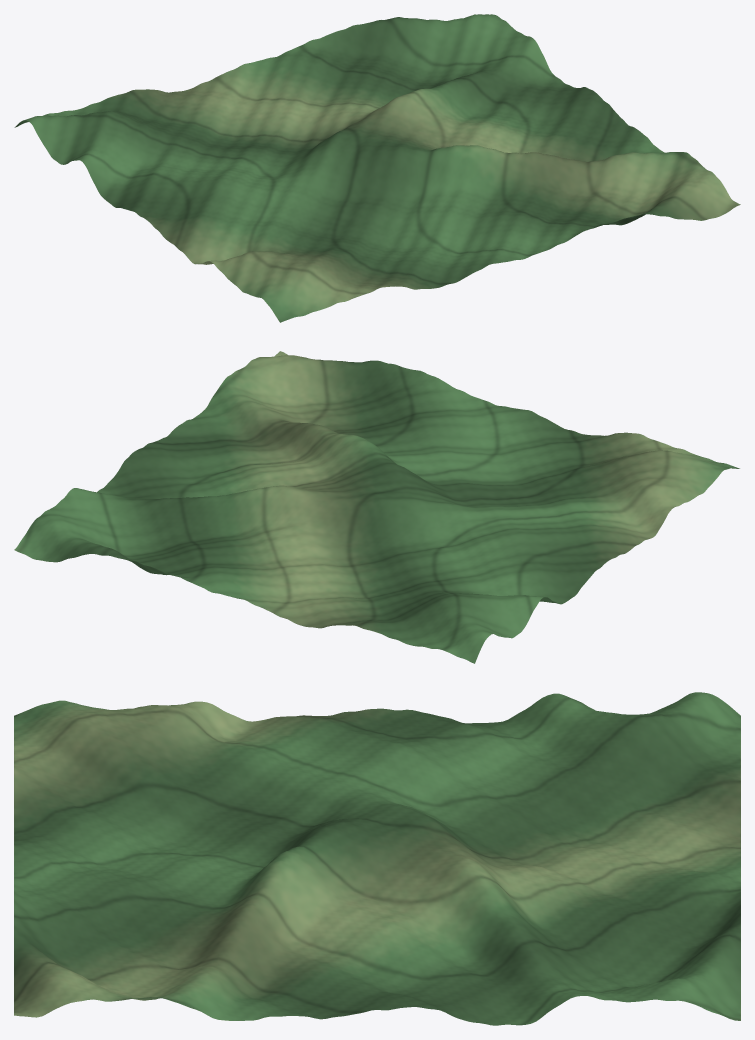
The model's file is earth_landscape.glb.
3 views of the same model, one above another, from view 1: azimuth 30°, elevation 25°; view 2: azimuth 150°, elevation 25°; view 3: azimuth 270°, elevation 25° (orthographic). The views are drawn at different scales.
Parts seen in each view (by area): view 1: Earth Landscape; view 2: Earth Landscape; view 3: Earth Landscape.
Boxes of the visible parts, <box> form: Earth Landscape: <box>14,14,740,322</box>; Earth Landscape: <box>14,351,739,663</box>; Earth Landscape: <box>14,692,740,1025</box>.
Size of the model in its own units: 760 by 69.9 by 760.
1 material, 1 textured.
